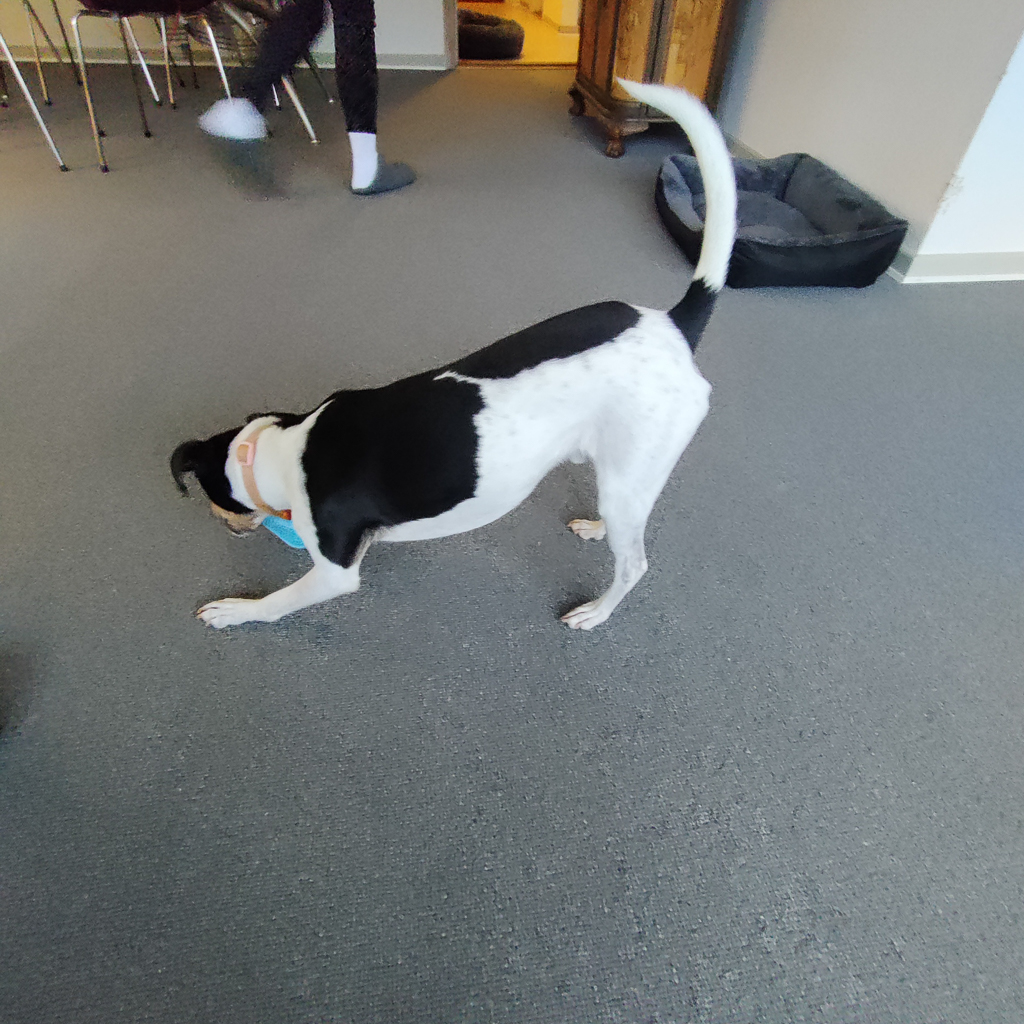Dog: (158, 63, 755, 648)
Humanoid: (181, 0, 437, 208)
